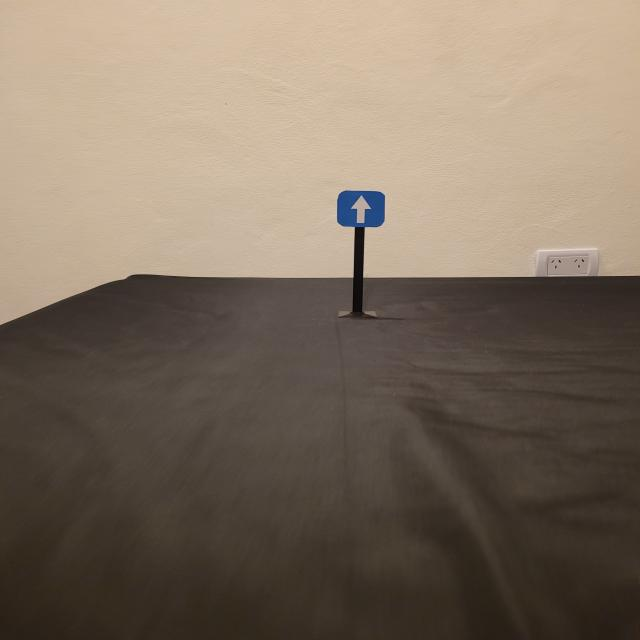one_way: (336, 190, 386, 228)
